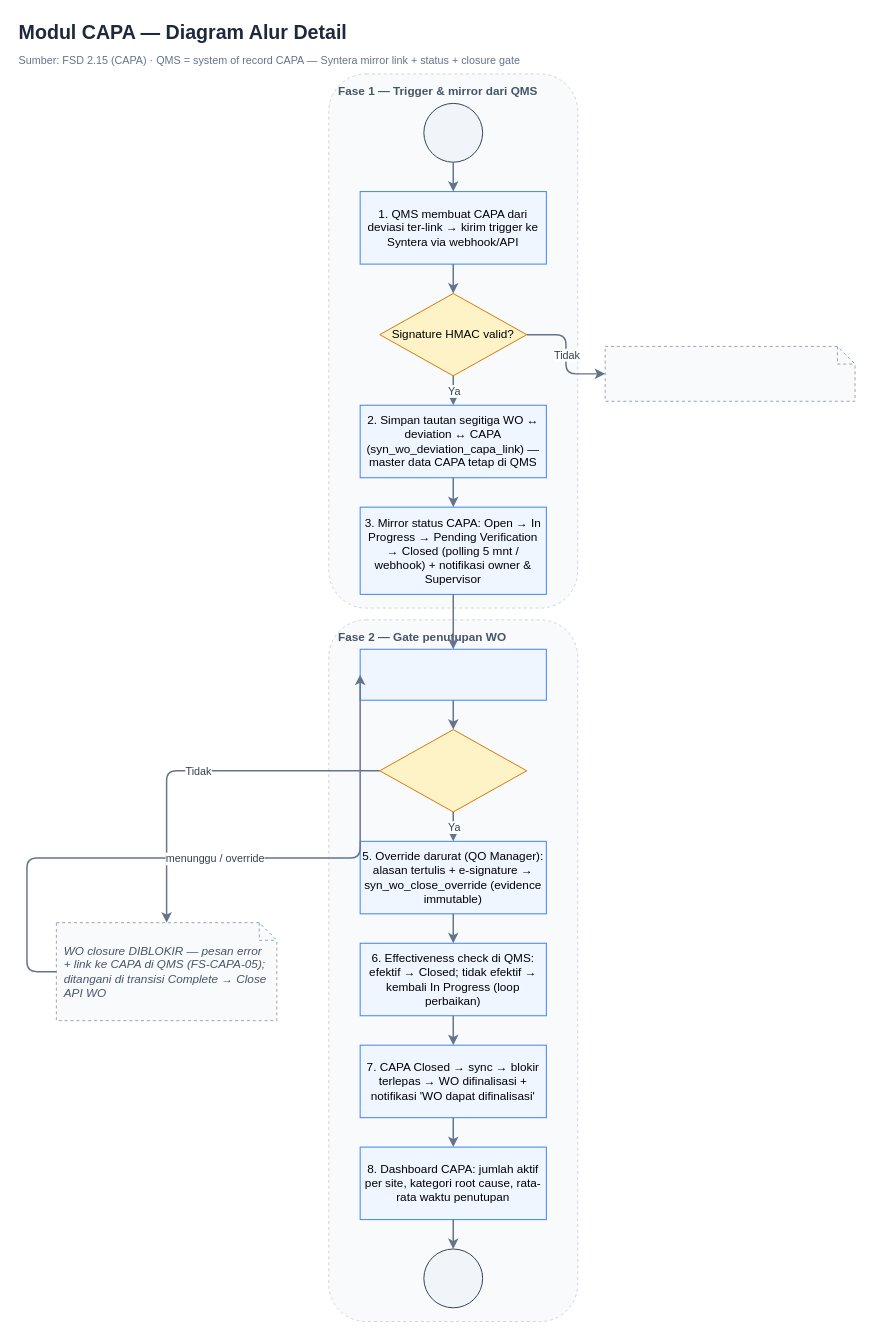
Some shapes in this 872 by 1339 pixel diagram are drawn without their labels. Here are the shapes that lost their labels. From the top down, the centre of each, then its label:
point 453,132: Mulai (deviasi MAJOR/CRITICAAL di QMS)
point 729,373: Event DITOLAK + error dicatat di sync log
point 452,674: 4. Engineer mencoba menutup WO (Complete → Close)
point 453,770: Semua CAPA terkait Closed?
point 453,1278: Selesai
